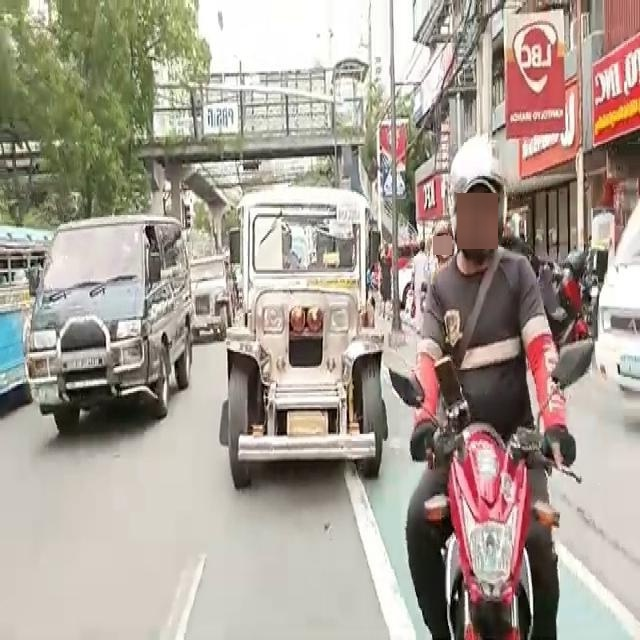car: (30, 234, 192, 440)
jeepney: (214, 198, 375, 520), (0, 224, 42, 397), (188, 251, 222, 350)
motorcycle: (411, 186, 556, 640)
